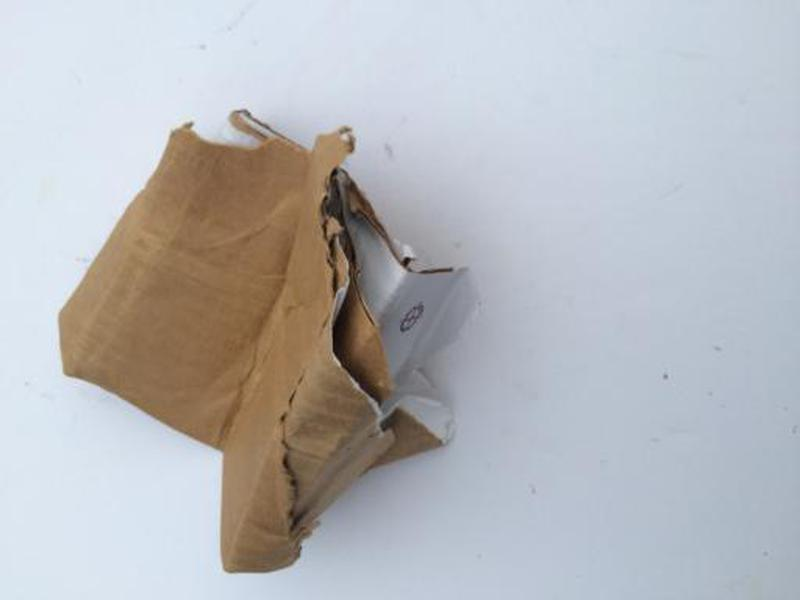cardboard: (54, 105, 477, 575)
